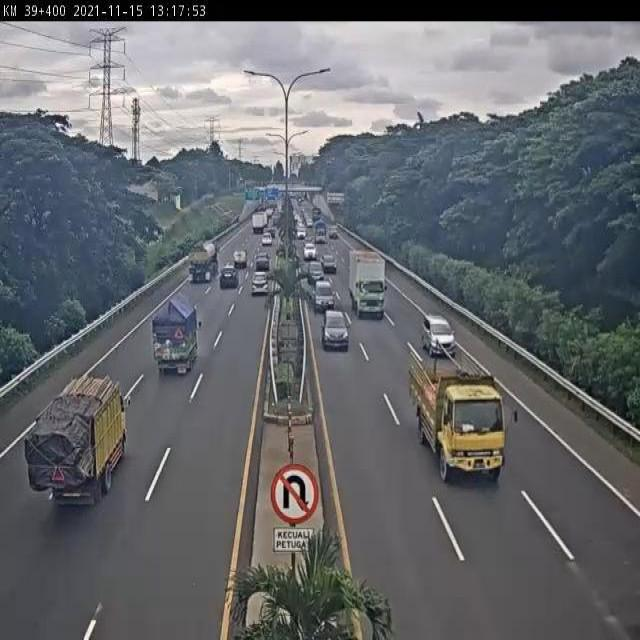car: (423, 310, 456, 354), (322, 308, 350, 348), (251, 269, 272, 299), (217, 264, 238, 292), (315, 283, 335, 308), (251, 250, 271, 274), (308, 261, 324, 283), (232, 248, 249, 268)
truck-m-: (26, 373, 131, 508), (408, 356, 509, 473), (152, 295, 199, 377), (350, 251, 387, 313)
truck-xl-: (186, 236, 220, 285)
